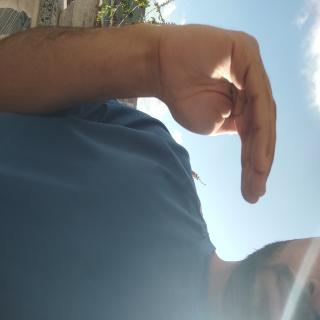HAA: (12, 50, 166, 238)
